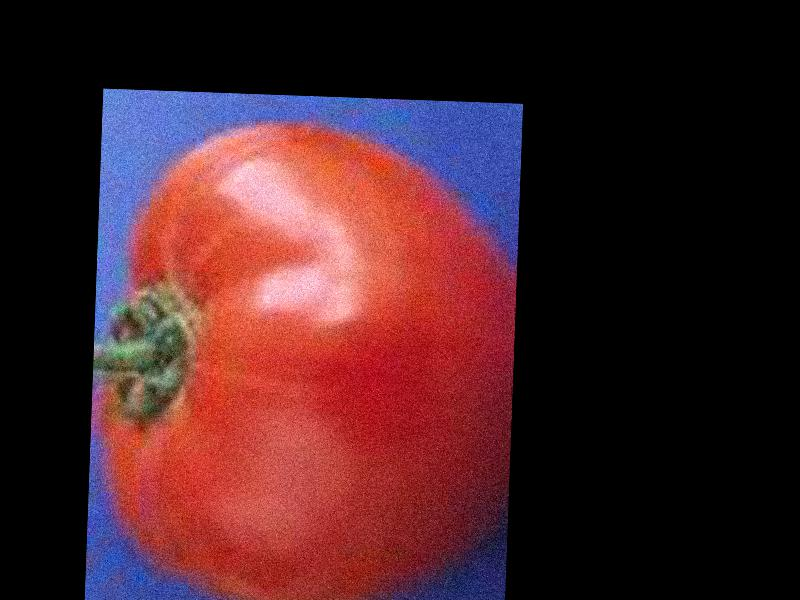Tomato: (87, 117, 519, 600)
